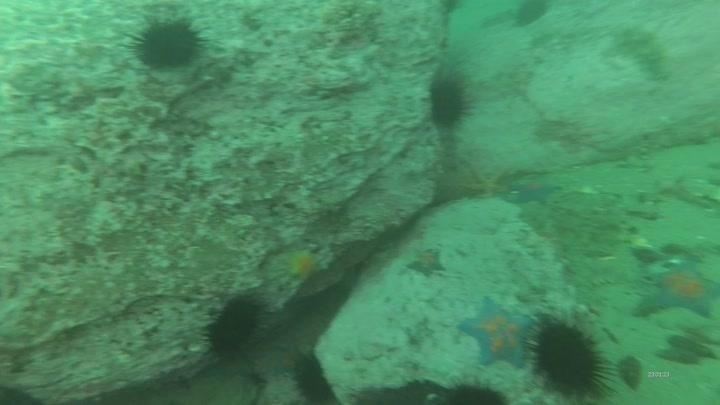echinus: (526, 315, 613, 400), (128, 15, 207, 73), (202, 291, 267, 361), (425, 70, 474, 131), (290, 352, 336, 405), (435, 378, 509, 405), (511, 0, 552, 30)
holothurian: (612, 22, 673, 82)
starfish: (457, 296, 539, 370), (632, 258, 720, 321), (279, 245, 326, 286), (261, 341, 307, 381), (509, 177, 563, 207), (404, 246, 448, 279)
